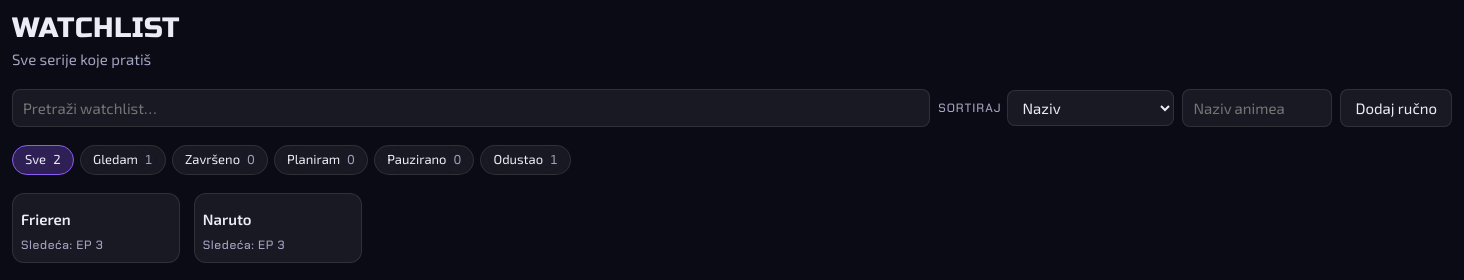
Test: WatchlistPage › filters by status
expect the text "Naruto" is shown: met, box [203,208,252,230]
Click the button "Odustao 1".
click(526, 160)  # box [480,145,571,175]
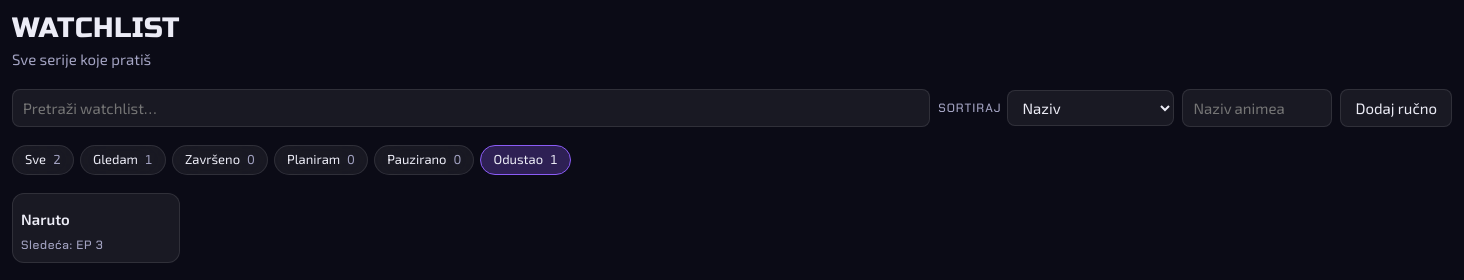
expect the text "Naruto" is shown: met, box [21,208,70,230]
expect the button "Frieren" is gone: met
